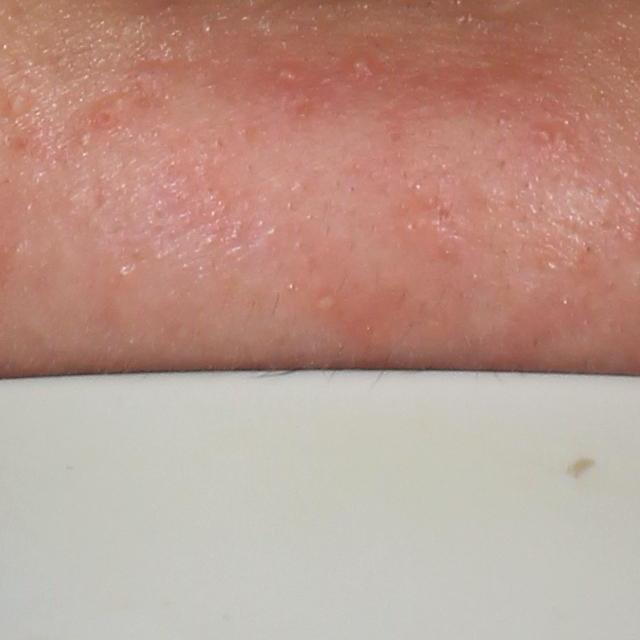comedo: (6, 91, 23, 114), (80, 131, 91, 148)
pustule: (309, 287, 345, 315), (274, 61, 306, 92), (348, 53, 377, 84), (532, 121, 555, 149)
